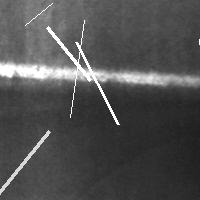scratches: (1, 61, 200, 89), (71, 37, 123, 129), (0, 126, 54, 200), (42, 22, 95, 85), (65, 15, 89, 122), (20, 0, 57, 30), (194, 0, 200, 49)
